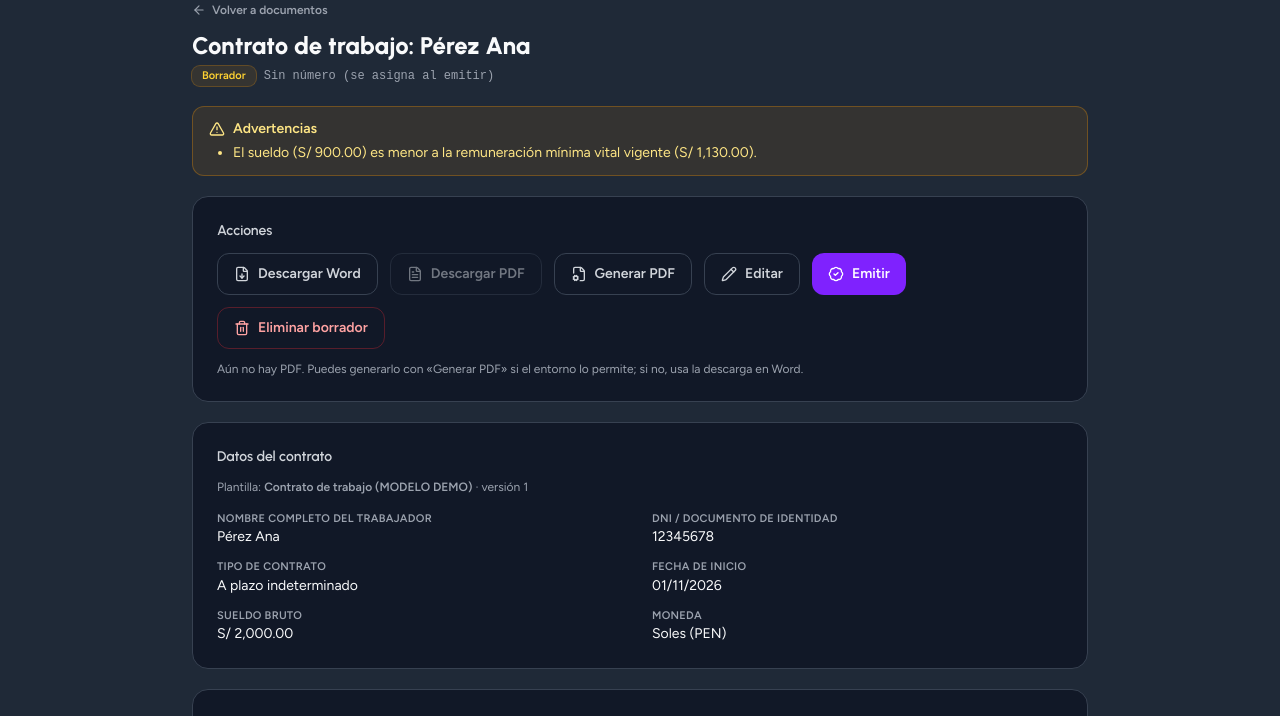
Emitir › éxito: cierra el diálogo, avisa y recarga documento y bitácora
Click the button "Emitir" at point(859, 274), box [812,253,906,295]
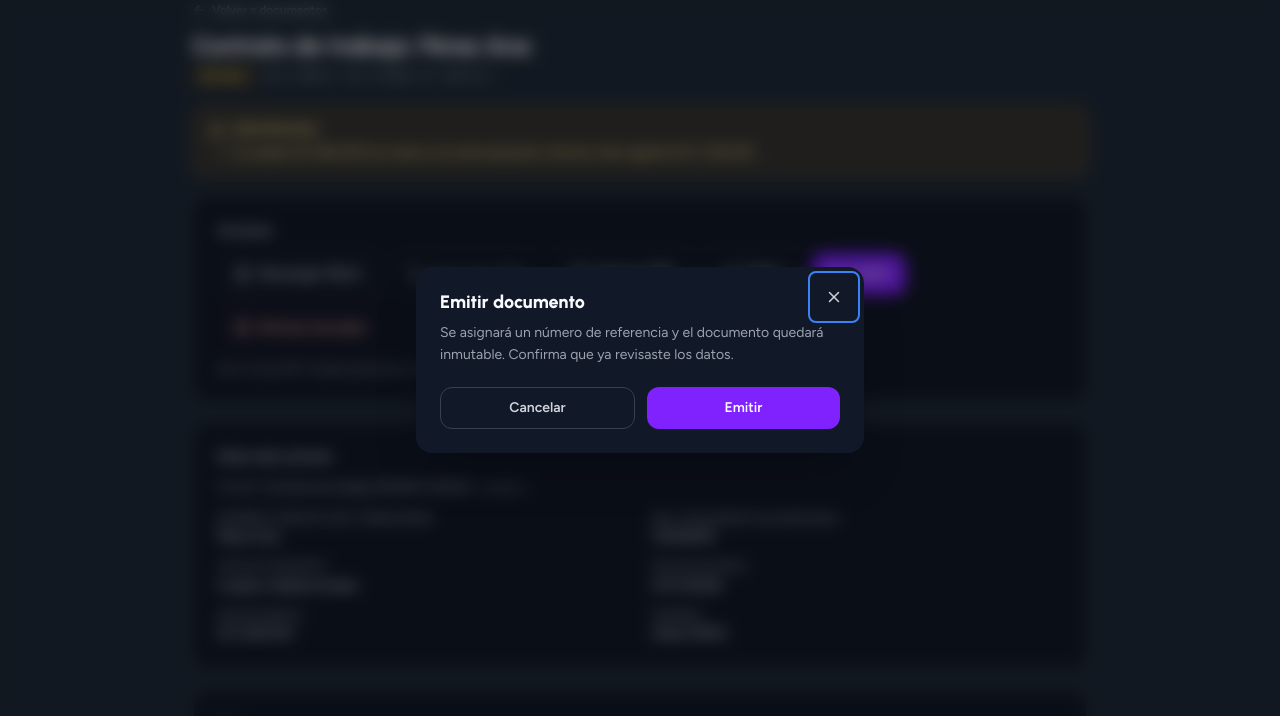
Click the button "Emitir" at point(744, 408), box [647,387,840,429]
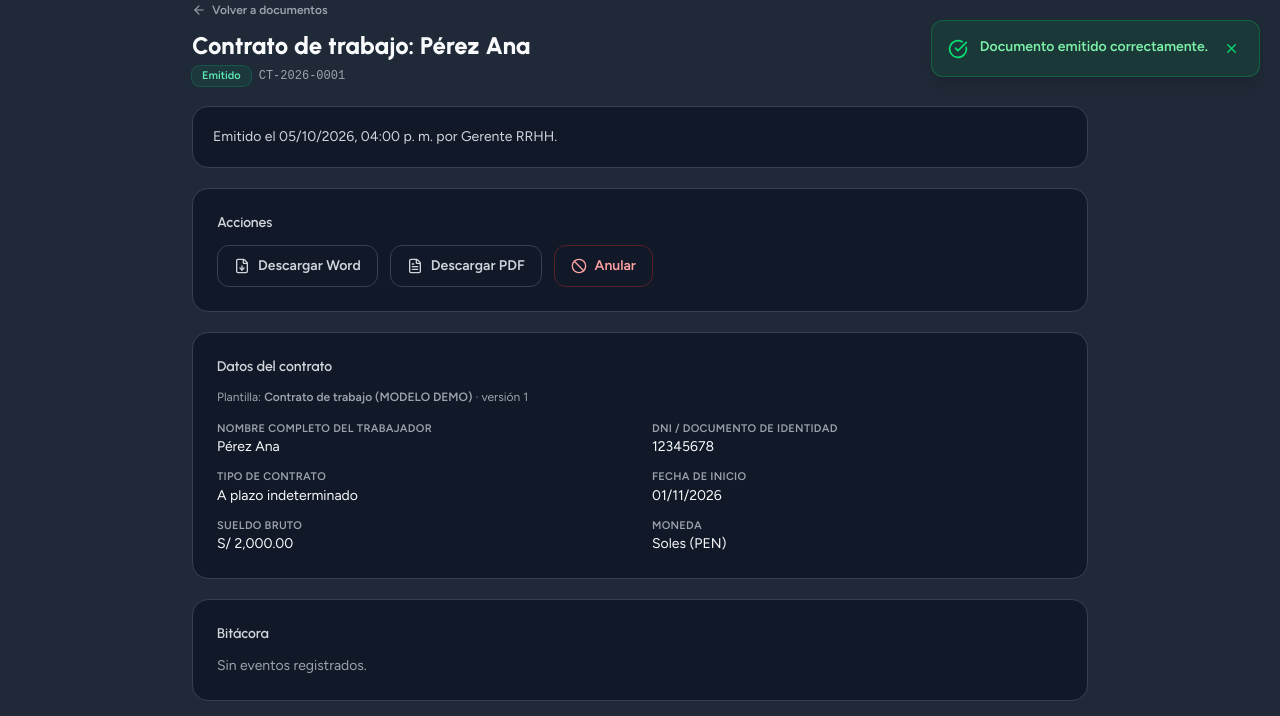
Result: the text "Documento emitido correctamente." is shown at [980,37,1208,56]
Result: the dialog is gone
Result: the text "CT-2026-0001" is shown at [259,68,345,84]
